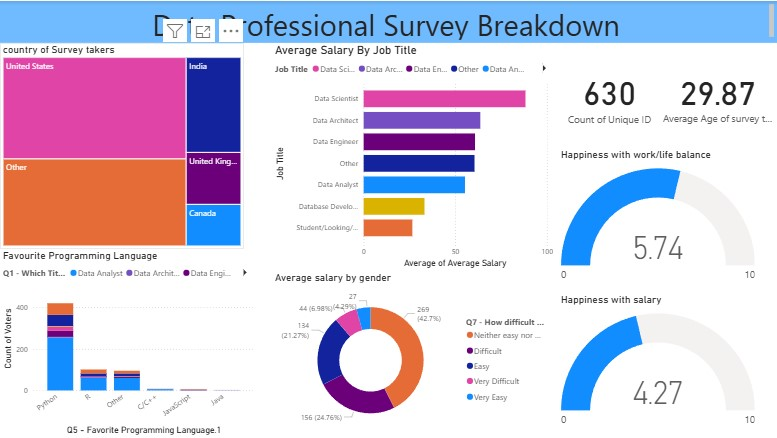

Layout of this report page (visuals, bound fields, positions):
{"tool":"powerbi","page":{"name":"Page 1","canvas":[1280,720],"ordinal":0},"visuals":[{"type":"textbox","box":[0,0,1280,69.2],"z":0},{"type":"card","fields":{"Values":["Count(Data Professional Survey.Unique ID)"]},"box":[869.8,69.2,268.5,173],"z":1},{"type":"card","fields":{"Values":["Avg(Data Professional Survey.Q10 - Current Age)"]},"box":[1084,69.2,196,173],"z":2},{"type":"barChart","title":"Average Salary By Job  Title","fields":{"Category":["Data Professional Survey.Q1 - Which Title Best Fits your Current Role?.1.1"],"Y":["Avg(Data Professional Survey.Average Salary)"],"Series":["Data Professional Survey.Q1 - Which Title Best Fits your Current Role?.1.1"]},"box":[448.1,69.2,467.9,375.6],"z":3},{"type":"columnChart","title":"Favourite Programming Language","fields":{"Category":["Data Professional Survey.Q5 - Favorite Programming Language.1"],"Y":["CountNonNull(Data Professional Survey.Unique ID)"],"Series":["Data Professional Survey.Q1 - Which Title Best Fits your Current Role?.1.1"]},"box":[0,408.5,423.4,311.4],"z":4},{"type":"treemap","title":"country of Survey takers","fields":{"Group":["Data Professional Survey.Q11 - Which Country do you live in?.1"],"Values":["CountNonNull(Data Professional Survey.Q11 - Which Country do you live in?.1)"]},"box":[0,69.2,402,339.4],"z":5},{"type":"gauge","title":"Happiness with work/life balance","fields":{"Y":["Avg(Data Professional Survey.Q6 - How Happy are you in your Current Position with the following? (Work/Life Balance))"],"MinValue":["Min(Data Professional Survey.Q6 - How Happy are you in your Current Position with the following? (Work/Life Balance))1"],"MaxValue":["Max(Data Professional Survey.Q6 - How Happy are you in your Current Position with the following? (Work/Life Balance))2"]},"box":[919.2,242.2,329.5,238.9],"z":6},{"type":"gauge","title":"Happiness with salary","fields":{"Y":["Avg(Data Professional Survey.Q6 - How Happy are you in your Current Position with the following? (Salary))"],"MinValue":["Min(Data Professional Survey.Q6 - How Happy are you in your Current Position with the following? (Salary))"],"MaxValue":["Max(Data Professional Survey.Q6 - How Happy are you in your Current Position with the following? (Work/Life Balance))"]},"box":[919.2,481,329.5,238.9],"z":7},{"type":"donutChart","title":"Average salary by gender","fields":{"Category":["Data Professional Survey.Q7 - How difficult was it for you to break into Data?"],"Y":["CountNonNull(Data Professional Survey.Q7 - How difficult was it for you to break into Data?)"]},"box":[448.1,444.8,459.6,275.1],"z":8}]}

Visuals, with their boxes on the page's 1280x720 design canvas (x1, y1, x2, y2). These are canvas units, not pixel positions in the 777x438 screenshot, which may show the page scaled, cropped or inside an application window:
textbox: pyautogui.locateOnScreen(0, 0, 1280, 69)
card - Count(Data Professional Survey.Unique ID): pyautogui.locateOnScreen(870, 69, 1138, 242)
card - Avg(Data Professional Survey.Q10 - Current Age): pyautogui.locateOnScreen(1084, 69, 1280, 242)
"Average Salary By Job  Title" barChart: pyautogui.locateOnScreen(448, 69, 916, 445)
"Favourite Programming Language" columnChart: pyautogui.locateOnScreen(0, 408, 423, 720)
"country of Survey takers" treemap: pyautogui.locateOnScreen(0, 69, 402, 409)
"Happiness with work/life balance" gauge: pyautogui.locateOnScreen(919, 242, 1249, 481)
"Happiness with salary" gauge: pyautogui.locateOnScreen(919, 481, 1249, 720)
"Average salary by gender" donutChart: pyautogui.locateOnScreen(448, 445, 908, 720)
